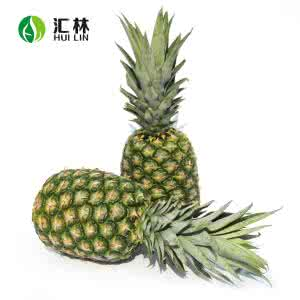pineapple: (26, 167, 281, 274), (113, 12, 208, 212)
